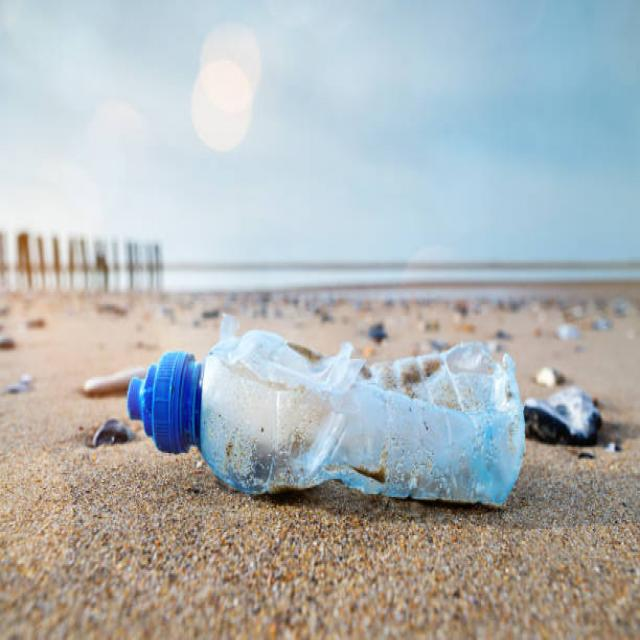plastic: (131, 346, 524, 501)
